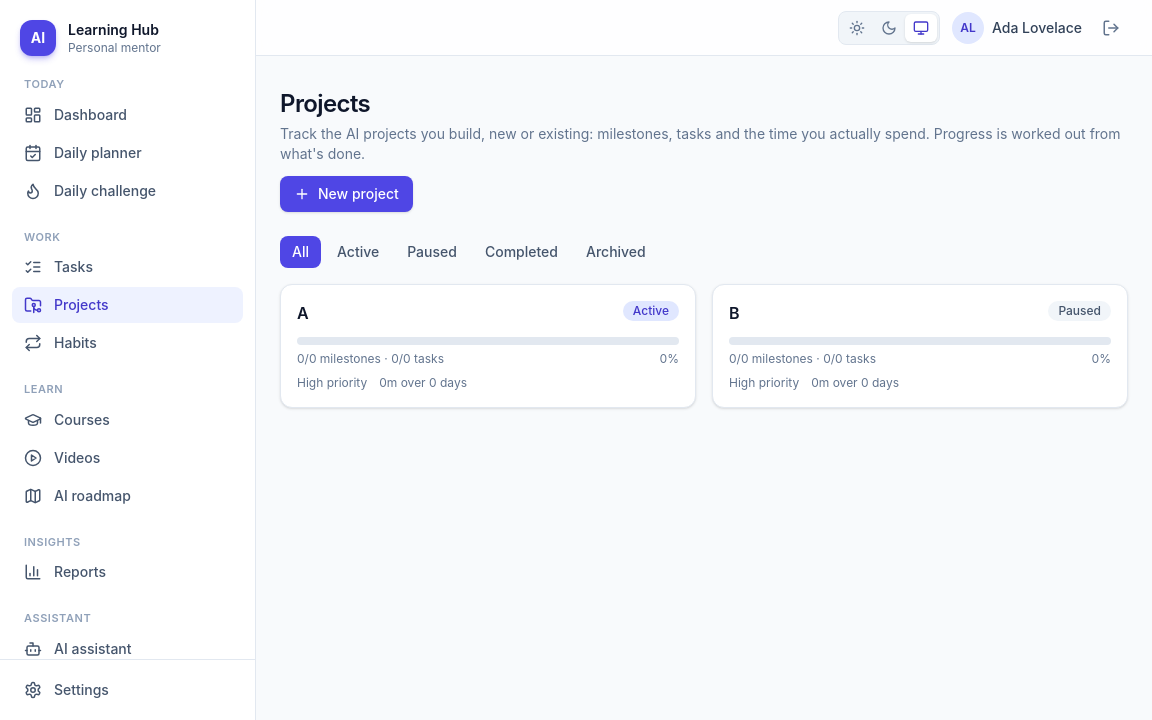
projects list › filters by status on the server
expect the heading "A" is shown: met, box [297,301,309,325]
Step 1. Click the tab "Paused" → (432, 252), box [395,236,469,268]
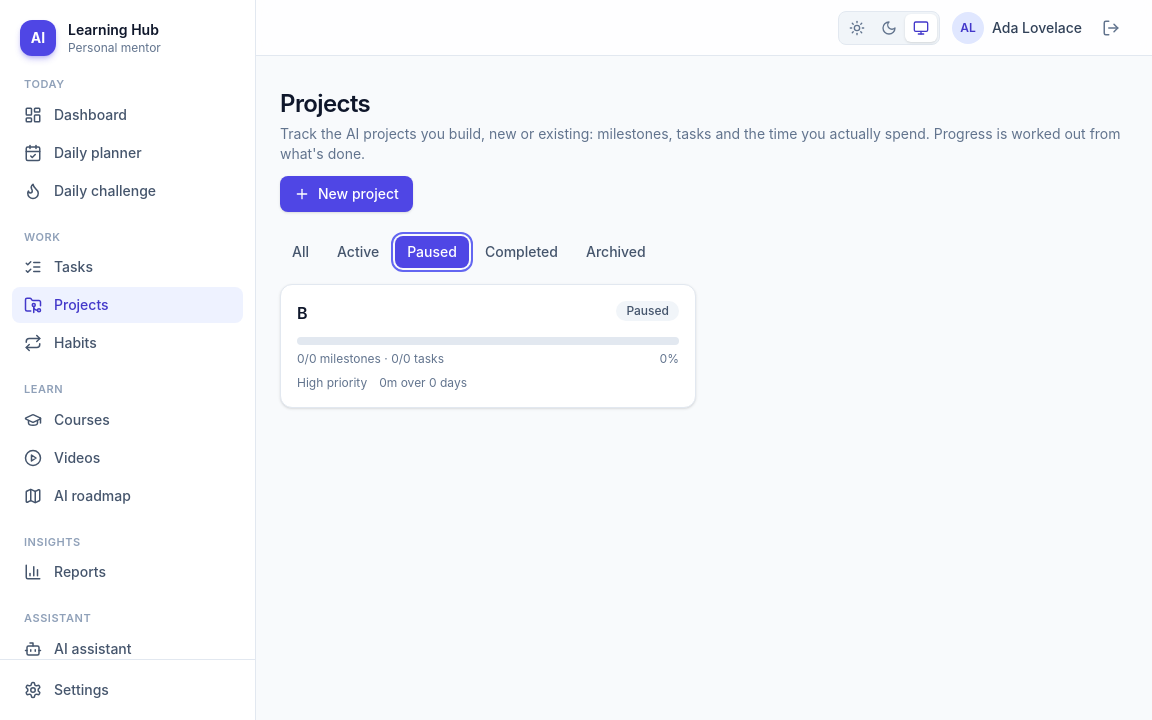
expect the heading "B" is shown: met, box [297,301,308,325]
Step 2. Click the tab "Archived" → (616, 252), box [574,236,658,268]
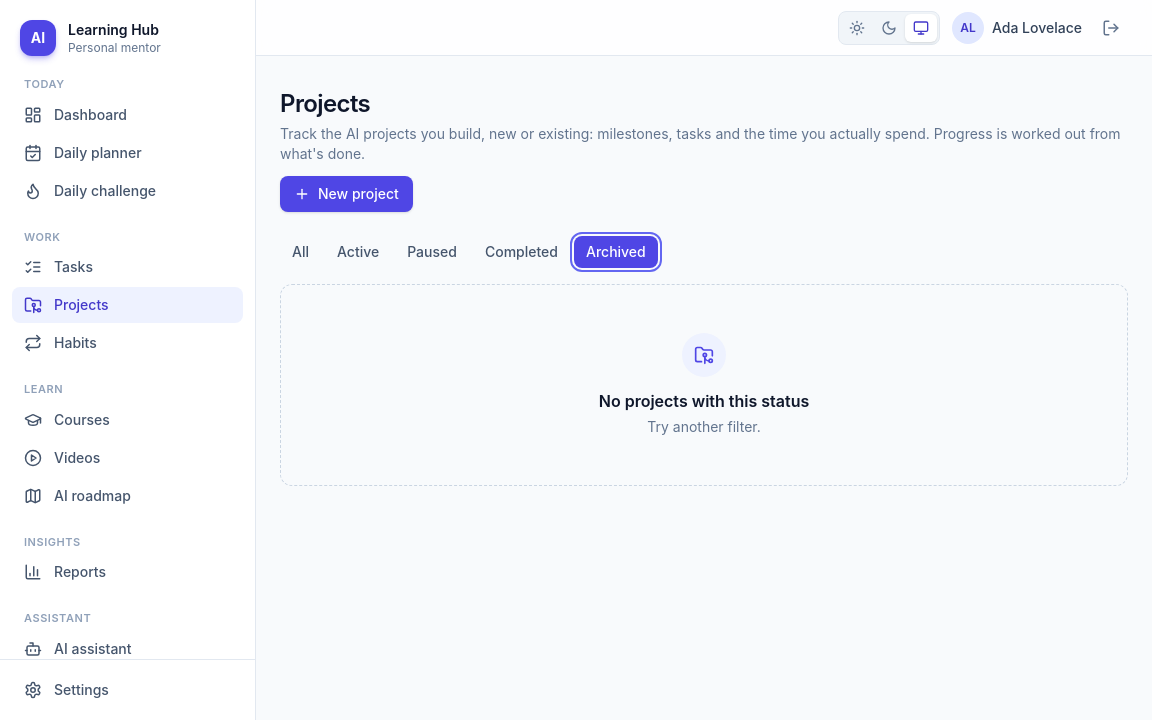
expect the heading "No projects with this status" is shown: met, box [599,389,809,413]
